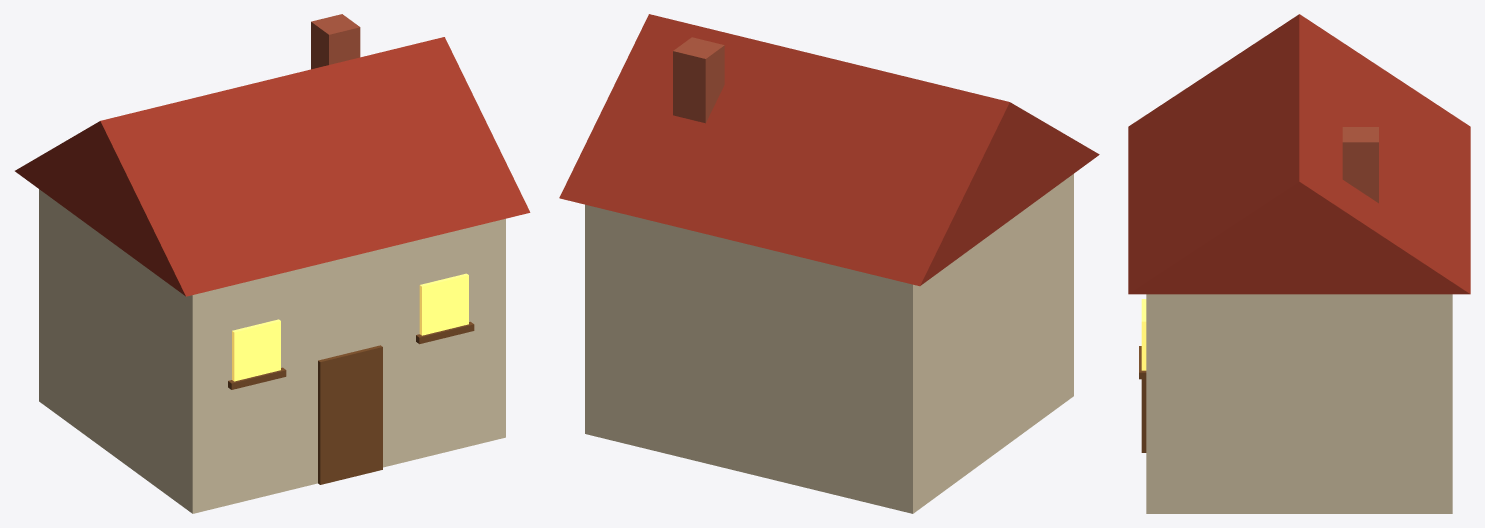
Rendered from town_riverside_house.glb.
3 renders of one model, left to right at view 1: azimuth 30°, elevation 25°; view 2: azimuth 150°, elevation 25°; view 3: azimuth 270°, elevation 25°, orthographic. The views are drawn at different scales.
Visible parts, largest first — view 1: riverside_house; view 2: riverside_house; view 3: riverside_house.
Part boxes in pixels (x1,y1,x2,y2): riverside_house: (15, 14, 530, 513); riverside_house: (559, 14, 1099, 513); riverside_house: (1128, 14, 1470, 513).
Size of the model in its own units: 4.4 by 4.27 by 3.8.
